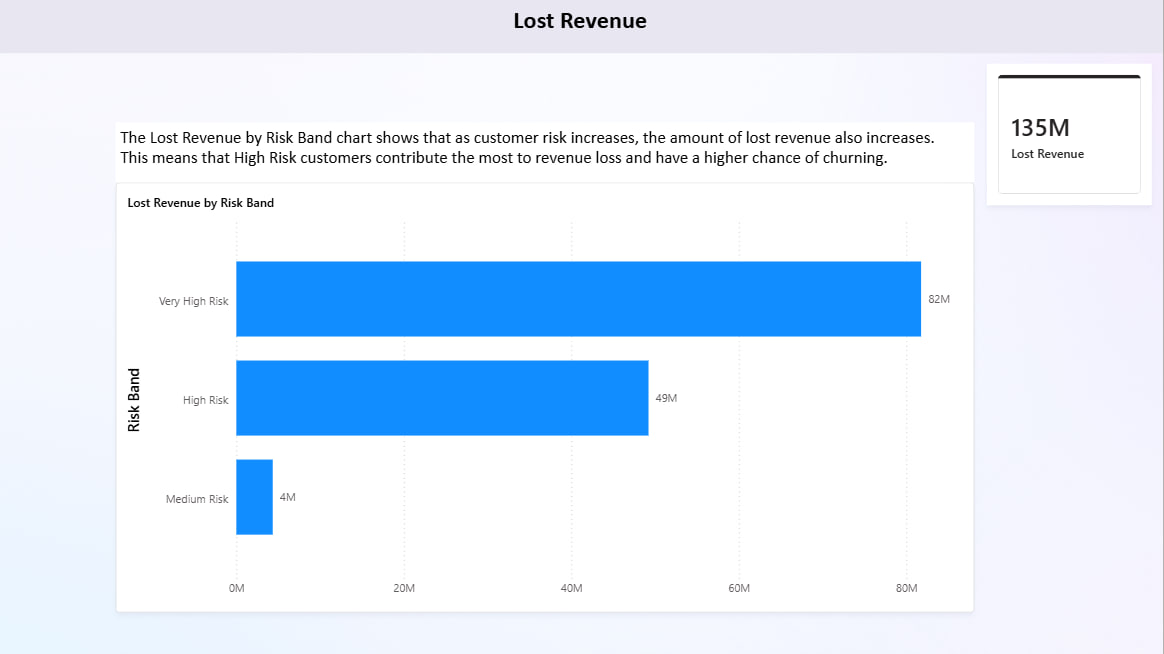

The dashboard page shown, as its layout file describes it:
{"tool":"powerbi","page":{"name":"Revenue Impact","canvas":[1280,720],"ordinal":5},"visuals":[{"type":"cardVisual","fields":{"Data":["customer_churn_dataset-training-master.Lost Revenue"]},"box":[1086.8,70,181.1,155.1],"z":0},{"type":"clusteredBarChart","fields":{"Category":["customer_churn_dataset-training-master.Risk Band"],"Y":["customer_churn_dataset-training-master.Lost Revenue"]},"box":[130.4,200.3,942.7,472],"z":1000},{"type":"textbox","box":[0,0,1280.6,58.3],"z":2000},{"type":"textbox","box":[130.4,134.5,942.7,65.9],"z":3000}]}

Visuals, with their boxes in screenshot pixels (x1, y1, x2, y2), scaled from the page's 1280x720 canvas onto the 1164x654 screenshot:
cardVisual - customer_churn_dataset-training-master.Lost Revenue: rect(988, 64, 1153, 204)
clusteredBarChart - customer_churn_dataset-training-master.Risk Band x customer_churn_dataset-training-master.Lost Revenue: rect(119, 182, 976, 611)
textbox: rect(0, 0, 1163, 53)
textbox: rect(119, 122, 976, 182)
